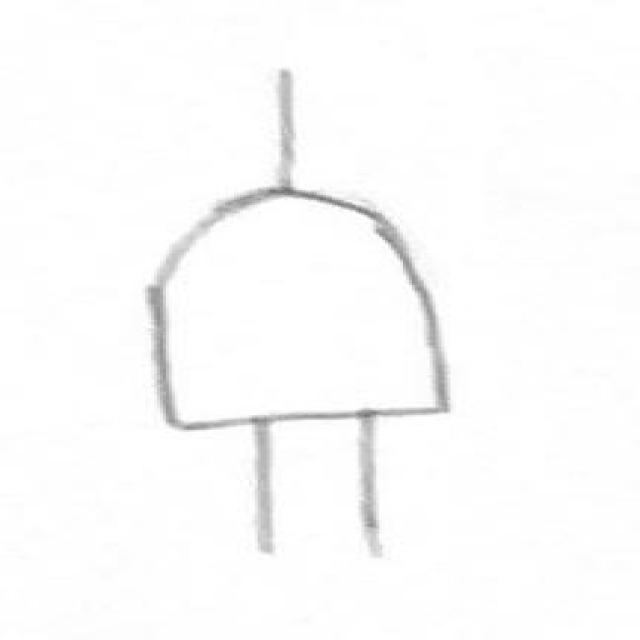AND: (80, 155, 528, 456)
